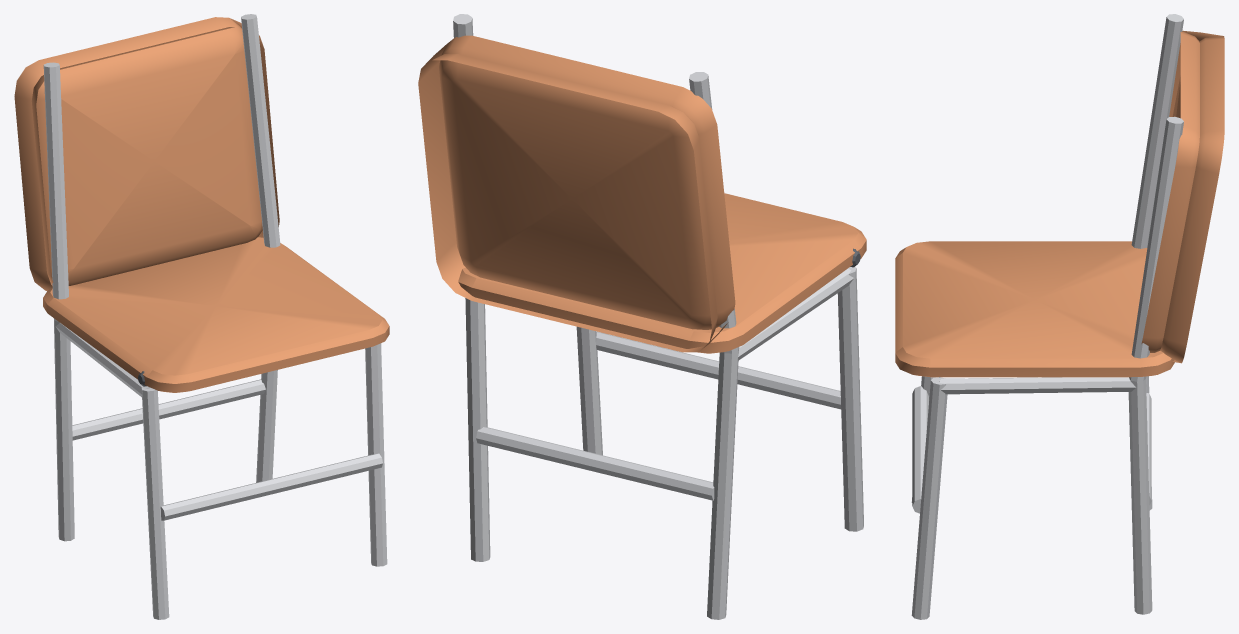
File: stacking-chair.glb
The picture shows the model from 3 angles, left to right: view 1: azimuth 30°, elevation 25°; view 2: azimuth 150°, elevation 25°; view 3: azimuth 270°, elevation 25°; orthographic projection. The views are drawn at different scales.
Visible parts, largest first — view 1: stacking-chair; view 2: stacking-chair; view 3: stacking-chair.
Part boxes in pixels (x1,y1,x2,y2): stacking-chair: (14,14,389,619); stacking-chair: (418,14,866,619); stacking-chair: (895,14,1224,619).
Size of the model in its own units: 0.463 by 0.8529 by 0.5177.
